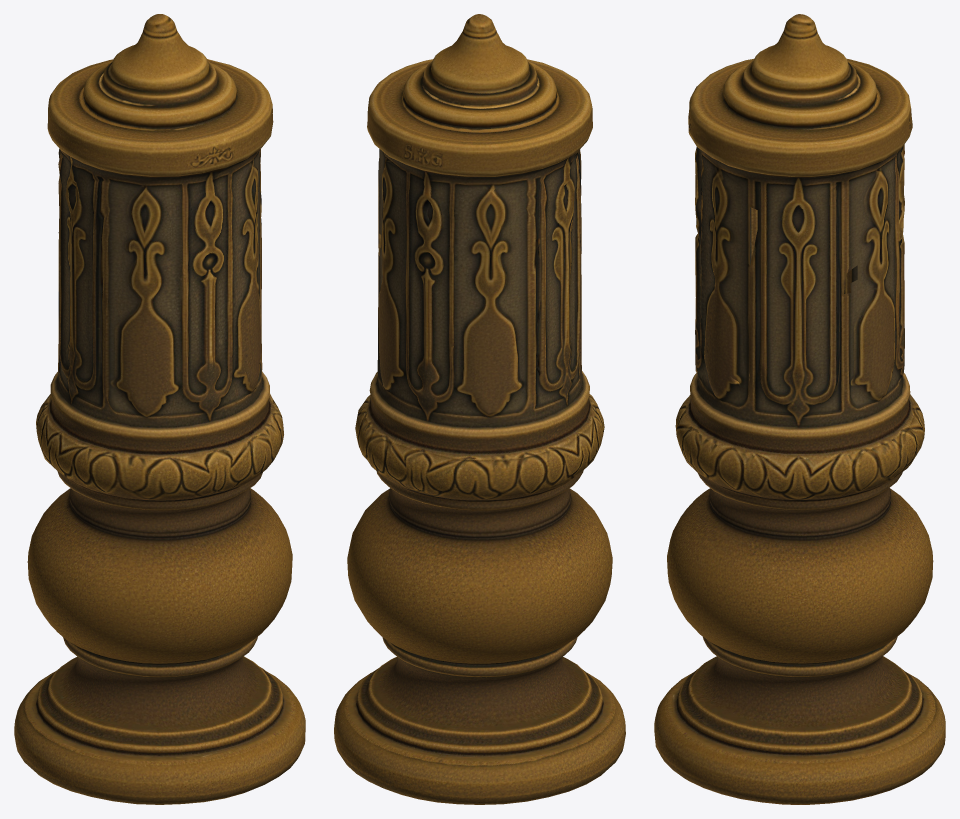
Rendered from tripo_convert_7adb3b00-ae5e-4ef2-af89-af5554bb4812.fbx.
3 views of the same model, side by side, from view 1: azimuth 30°, elevation 25°; view 2: azimuth 150°, elevation 25°; view 3: azimuth 270°, elevation 25° (orthographic).
Visible parts, largest first — view 1: tripo_node_7adb3b00; view 2: tripo_node_7adb3b00; view 3: tripo_node_7adb3b00.
Part boxes in pixels (x1,y1,x2,y2): tripo_node_7adb3b00: (14, 14, 305, 804); tripo_node_7adb3b00: (334, 14, 625, 804); tripo_node_7adb3b00: (654, 14, 945, 804).
Bounding box in the file's own units: 0.3518 × 0.9777 × 0.3524.
1 material, 1 textured.
